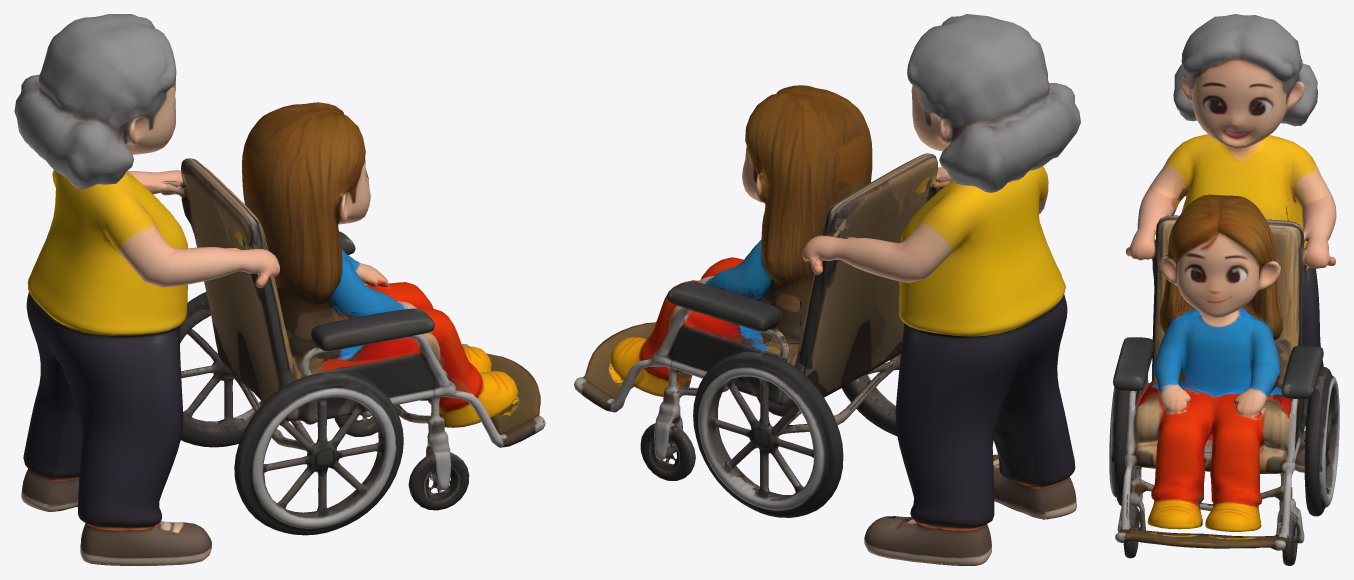
Rendered from niñassilladerruedas.glb.
3 renders of one model, left to right at view 1: azimuth 30°, elevation 25°; view 2: azimuth 150°, elevation 25°; view 3: azimuth 270°, elevation 25°, orthographic. The views are drawn at different scales.
Parts seen in each view (by area): view 1: model; view 2: model; view 3: model.
Boxes of the visible parts, left/top/right/bottom form: model: left=14, top=14, right=545, bottom=565; model: left=574, top=14, right=1080, bottom=565; model: left=1109, top=14, right=1339, bottom=565.
Size of the model in its own units: 1.87 by 1.9 by 0.935.
Materials: 1 (1 with a texture image).
